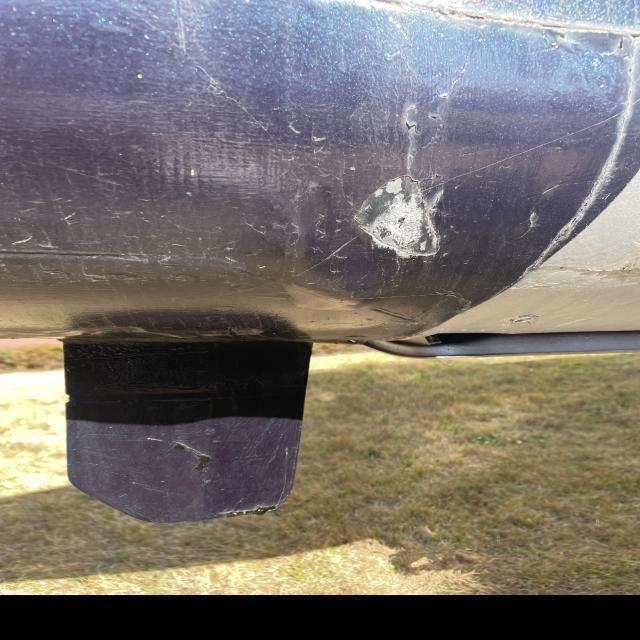crack: (391, 112, 454, 136)
dent: (351, 178, 443, 257)
